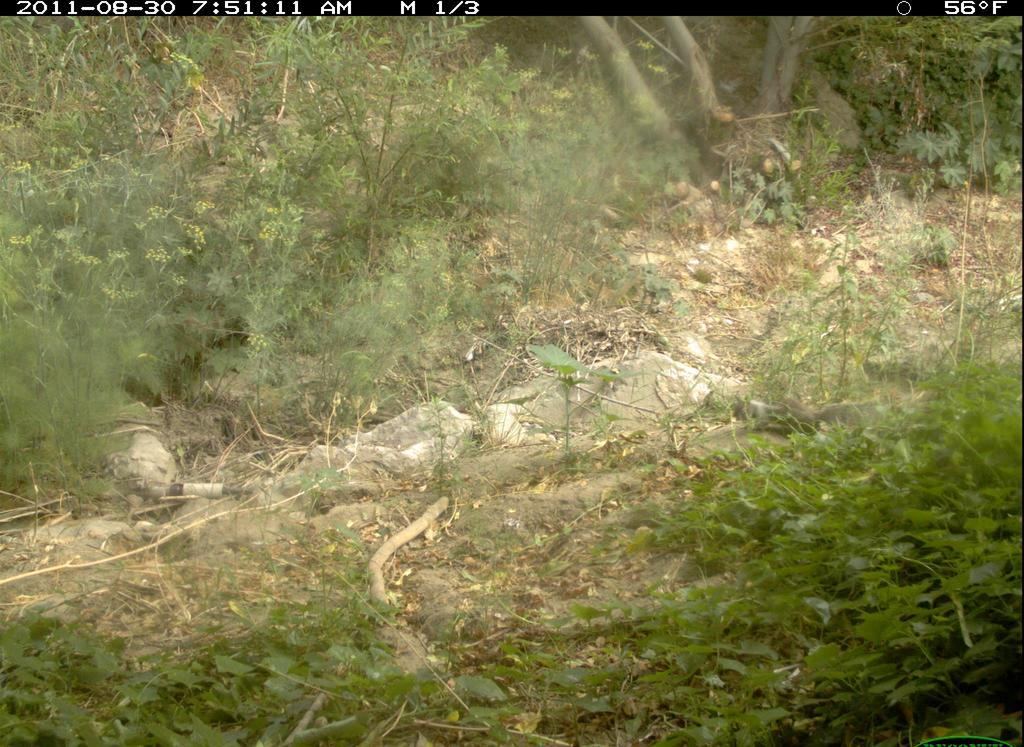squirrel: (728, 382, 898, 455)
